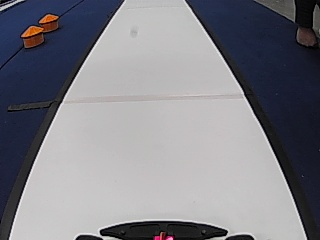granary: (19, 24, 45, 50), (40, 14, 60, 31)
